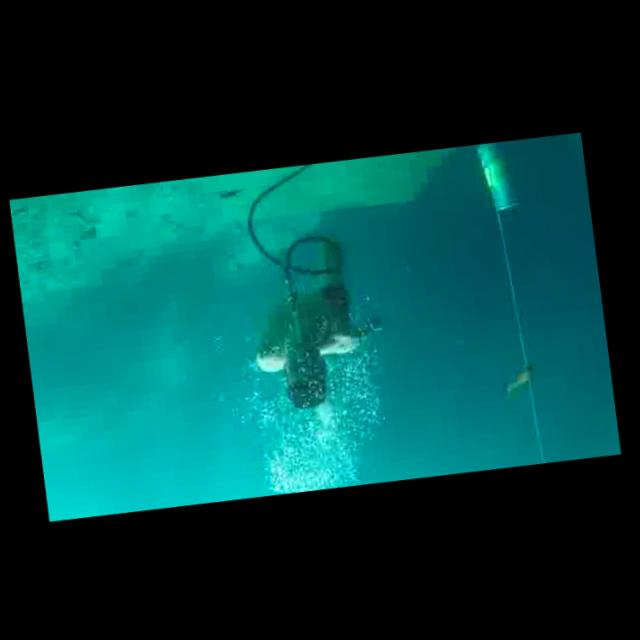human: (234, 218, 388, 418)
